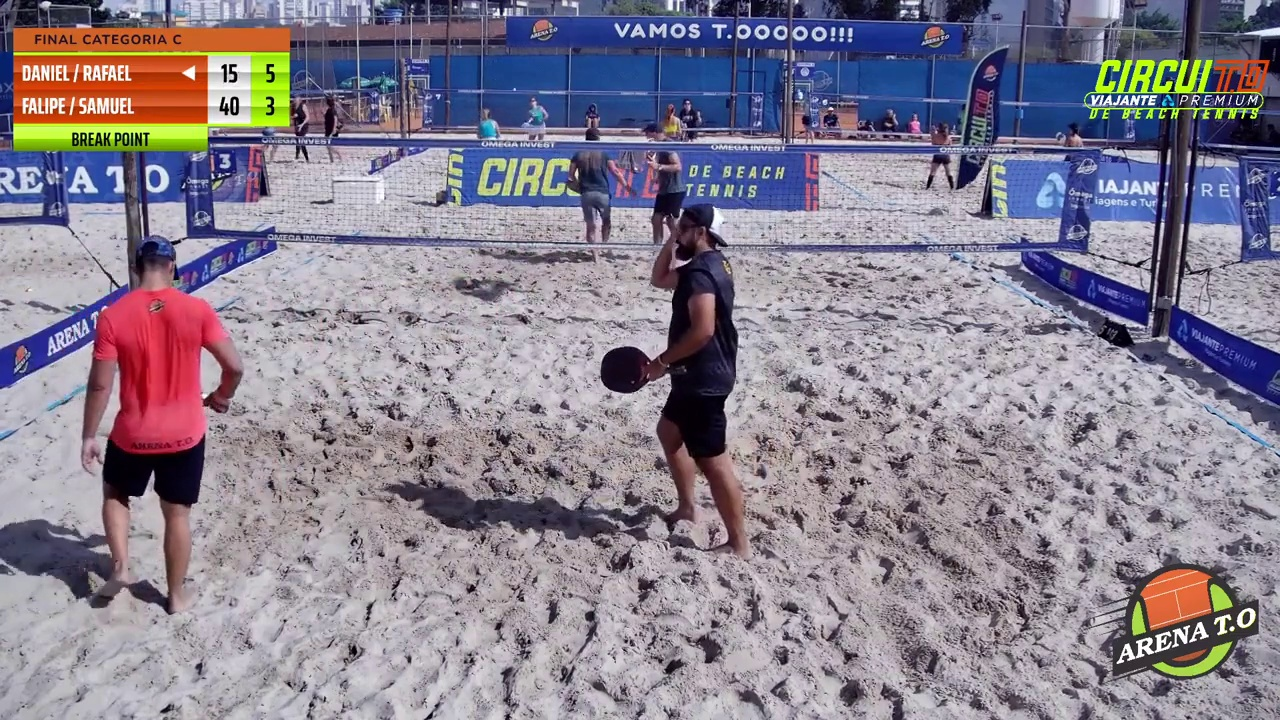court_line: (550, 0, 672, 525)
